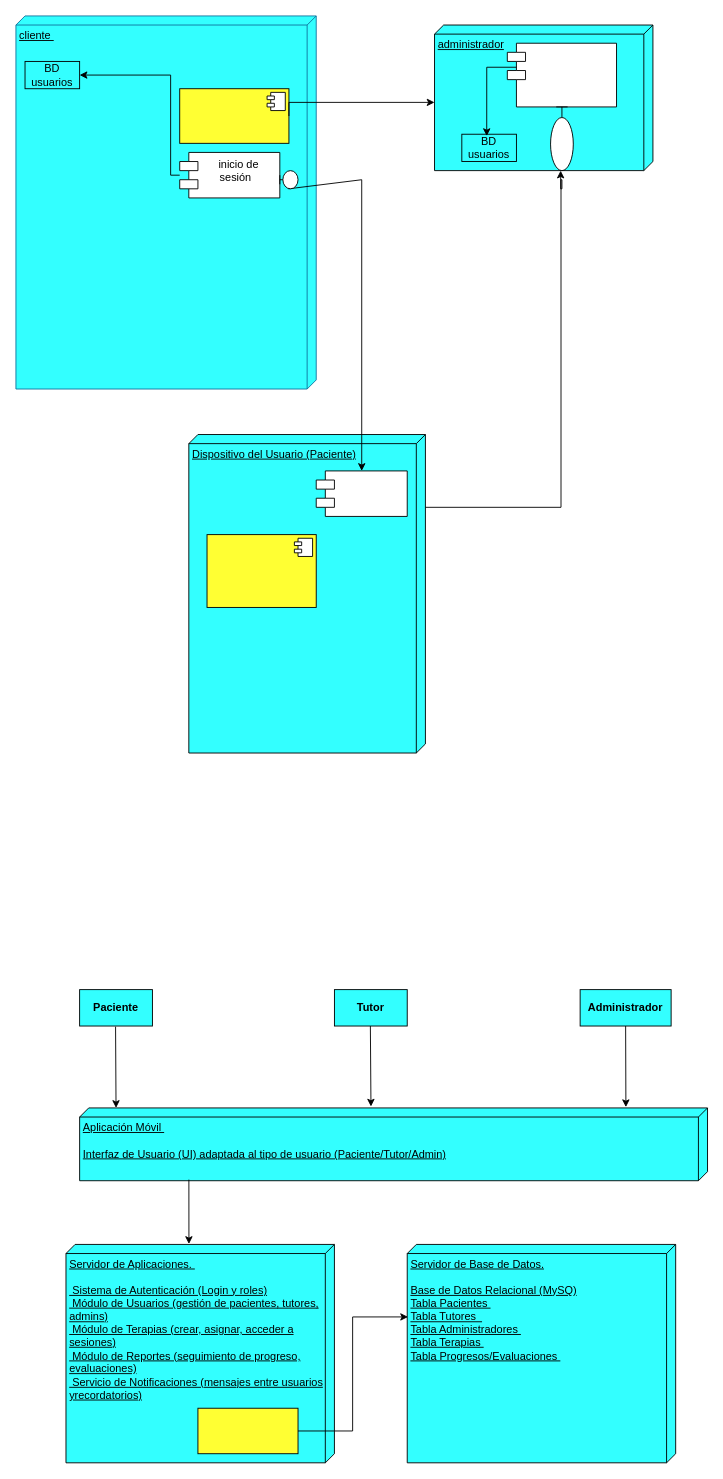
This 723x1479 diagram has some shape labels left out. Here are the shapes that lost their labels. From the top down, the centre of each, then its label:
At (561,74): "listado de datos personales requeridos para el inicio de sesión".
At (234,115): "Component <<artifact>> administrador".
At (561,138): "datos".
At (361,493): "interfaz de las pantallas administrador".
At (261,570): "Component Cámara <<artifact>> ESP32-CAM".
At (247,1430): "(login) inicio de sesión y datos que se necesitan".
